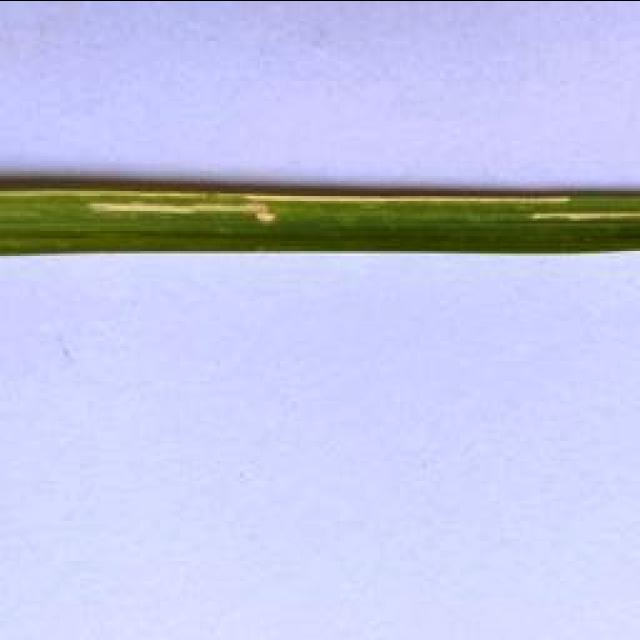Unhealthy: (0, 190, 572, 223), (530, 211, 640, 218)
